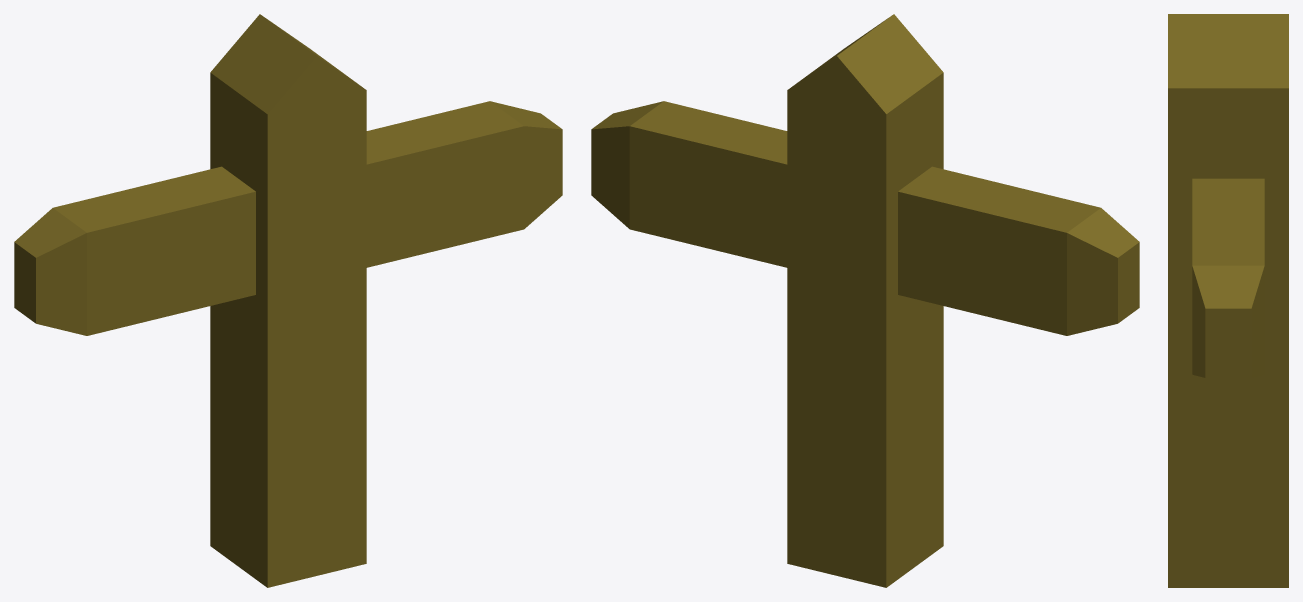
The model's file is Fence.fbx.
The picture shows the model from 3 angles, left to right: view 1: azimuth 30°, elevation 25°; view 2: azimuth 150°, elevation 25°; view 3: azimuth 270°, elevation 25°; orthographic projection. The views are drawn at different scales.
Visible parts, largest first — view 1: Fence; view 2: Fence; view 3: Fence.
Boxes of the visible parts, x1,y1,x2,y2 form: Fence: (14, 14, 562, 587); Fence: (591, 14, 1139, 587); Fence: (1168, 14, 1288, 587).
Bounding box in the file's own units: 233 × 220 × 43.92.
